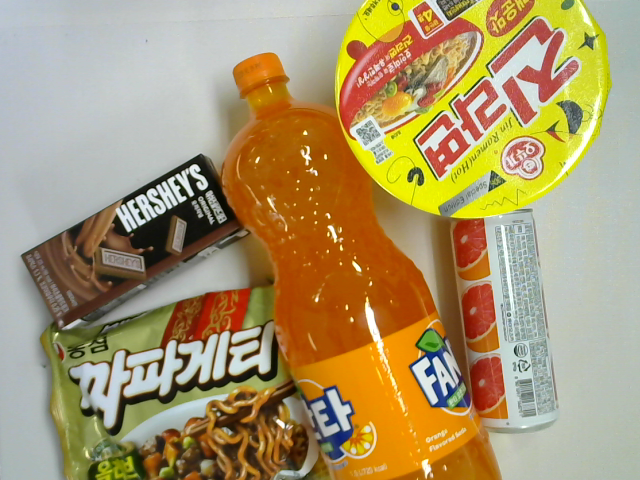Demisoda_Grapefruit_Can_250ml: (449, 206, 560, 435)
Hush_Choco_Drink: (19, 152, 251, 335)
Hwanta_Orange_1.5L: (220, 52, 502, 480)
Jinlamyeon_Hot_Taste_Large_Cup: (332, 1, 612, 223)
Olive_Chapaghetti: (40, 280, 339, 480)
